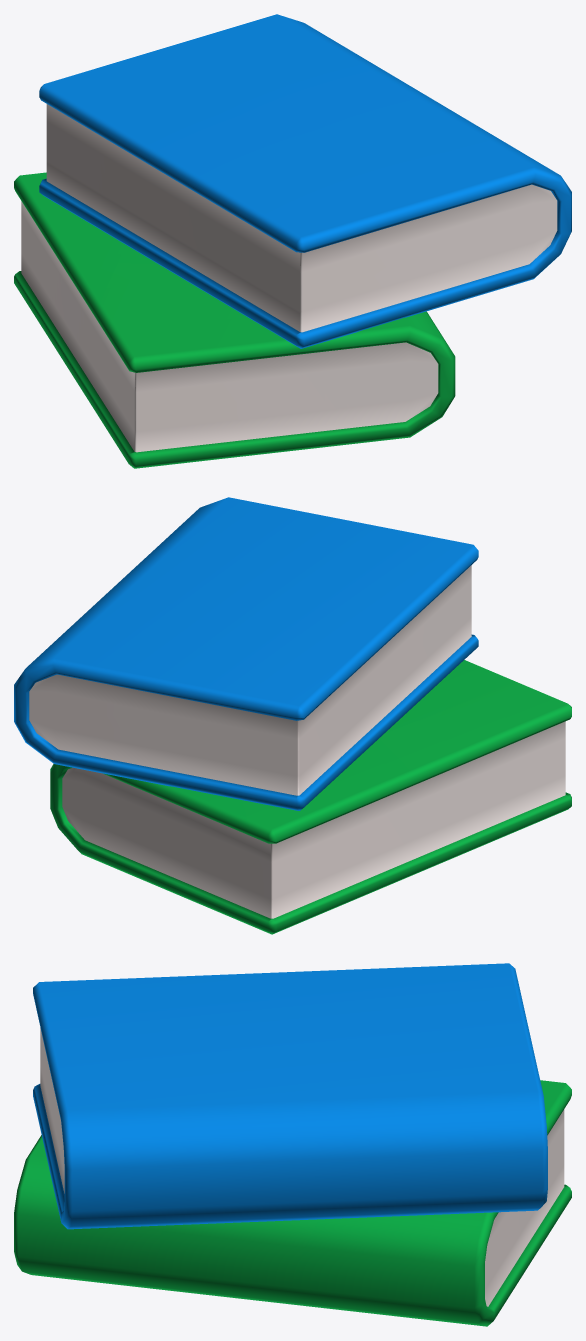
Rendered from Store_7_Books_2.glb.
3 views of the same model, one above another, from view 1: azimuth 30°, elevation 25°; view 2: azimuth 150°, elevation 25°; view 3: azimuth 270°, elevation 25° (orthographic). The views are drawn at different scales.
Visible parts, largest first — view 1: Store_7_Books_2; view 2: Store_7_Books_2; view 3: Store_7_Books_2.
Part boxes in pixels (x1,y1,x2,y2): Store_7_Books_2: [14, 14, 571, 468]; Store_7_Books_2: [14, 497, 571, 934]; Store_7_Books_2: [14, 963, 571, 1326].
Size of the model in its own units: 1.21 by 0.6095 by 1.29.
1 material, 1 textured.
